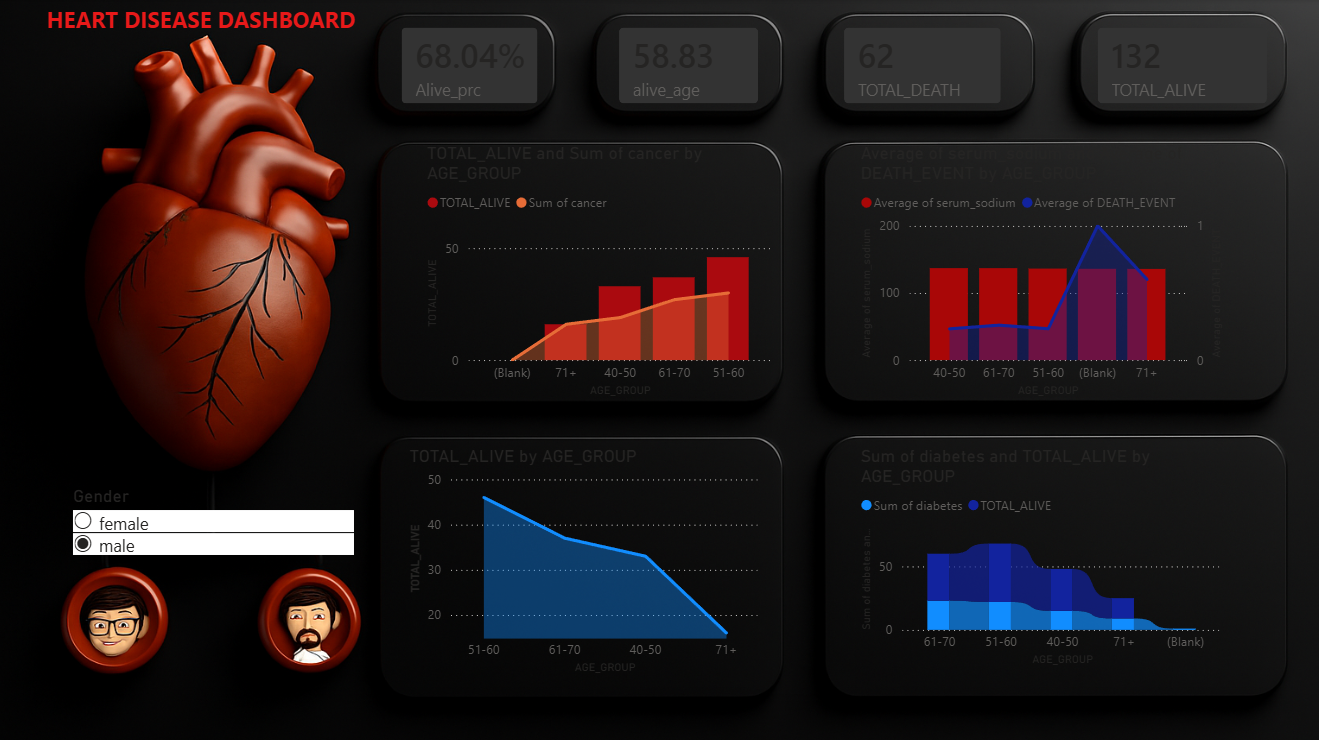

Layout of this report page (visuals, bound fields, positions):
{"tool":"powerbi","page":{"name":"Page 1","canvas":[1280,720],"ordinal":0},"visuals":[{"type":"textbox","box":[0,0,392.1,76],"z":0},{"type":"cardVisual","fields":{"Data":["heart_Disease_clinical_records_.TOTAL_DEATH"]},"box":[799.9,10.9,185.8,107.4],"z":1000},{"type":"lineClusteredColumnComboChart","fields":{"Y":["heart_Disease_clinical_records_.TOTAL_ALIVE"],"Category":["heart_Disease_clinical_records_.AGE_GROUP"],"Y2":["Sum(heart_Disease_clinical_records_.cancer)"]},"box":[408.9,138.6,343.1,249.7],"z":2000},{"type":"lineClusteredColumnComboChart","fields":{"Category":["heart_Disease_clinical_records_.AGE_GROUP"],"Y":["Avg(heart_Disease_clinical_records_.serum_sodium)"],"Y2":["Avg(heart_Disease_clinical_records_.DEATH_EVENT)"]},"box":[827.4,138.6,359.5,249.7],"z":3000},{"type":"lineChart","fields":{"Category":["heart_Disease_clinical_records_.AGE_GROUP"],"Y":["heart_Disease_clinical_records_.TOTAL_ALIVE"]},"box":[392.1,430.7,347.5,225.6],"z":4000},{"type":"ribbonChart","fields":{"Category":["heart_Disease_clinical_records_.AGE_GROUP"],"Y":["Sum(heart_Disease_clinical_records_.diabetes)","heart_Disease_clinical_records_.TOTAL_ALIVE"]},"box":[827.4,430.9,359.5,218.2],"z":5000},{"type":"listSlicer","fields":{"Values":["heart_Disease_clinical_records_.Gender"]},"box":[67.2,469.3,281.3,205.8],"z":6000},{"type":"cardVisual","fields":{"Data":["heart_Disease_clinical_records_.Alive_prc"]},"box":[372.8,10.9,165.3,107.4],"z":7000},{"type":"cardVisual","fields":{"Data":["heart_Disease_clinical_records_.alive_age"]},"box":[582.7,10.9,168.9,107.4],"z":8000},{"type":"cardVisual","fields":{"Data":["heart_Disease_clinical_records_.TOTAL_ALIVE"]},"box":[1044.3,11,197.6,107],"z":9000}]}

Visuals, with their boxes in screenshot pixels (x1, y1, x2, y2), scaled from the page's 1280x720 canvas onto the 1319x740 screenshot:
textbox: x1=0 y1=0 x2=404 y2=78
cardVisual - heart_Disease_clinical_records_.TOTAL_DEATH: x1=824 y1=11 x2=1016 y2=122
lineClusteredColumnComboChart - heart_Disease_clinical_records_.TOTAL_ALIVE x heart_Disease_clinical_records_.AGE_GROUP: x1=421 y1=142 x2=775 y2=399
lineClusteredColumnComboChart - heart_Disease_clinical_records_.AGE_GROUP x Avg(heart_Disease_clinical_records_.serum_sodium): x1=853 y1=142 x2=1223 y2=399
lineChart - heart_Disease_clinical_records_.AGE_GROUP x heart_Disease_clinical_records_.TOTAL_ALIVE: x1=404 y1=443 x2=762 y2=675
ribbonChart - heart_Disease_clinical_records_.AGE_GROUP x Sum(heart_Disease_clinical_records_.diabetes): x1=853 y1=443 x2=1223 y2=667
listSlicer - heart_Disease_clinical_records_.Gender: x1=69 y1=482 x2=359 y2=694
cardVisual - heart_Disease_clinical_records_.Alive_prc: x1=384 y1=11 x2=554 y2=122
cardVisual - heart_Disease_clinical_records_.alive_age: x1=600 y1=11 x2=775 y2=122
cardVisual - heart_Disease_clinical_records_.TOTAL_ALIVE: x1=1076 y1=11 x2=1280 y2=121
